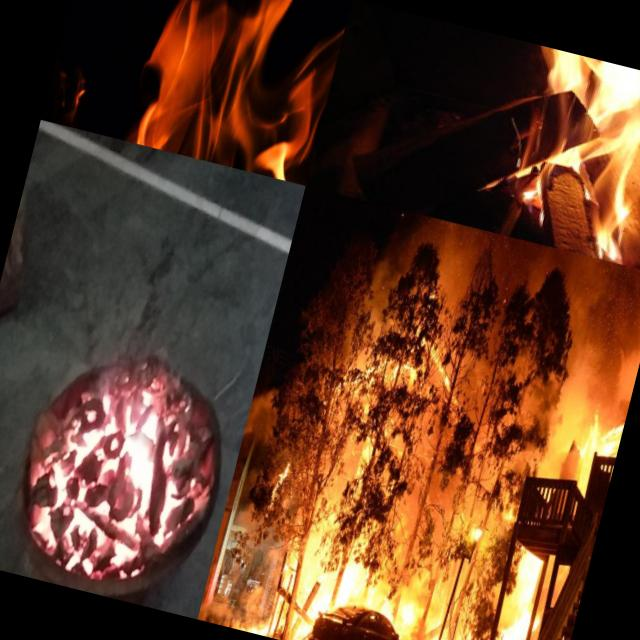fire: (15, 336, 234, 602), (40, 0, 352, 185), (464, 37, 640, 267), (468, 537, 557, 640), (374, 578, 459, 640)
smoke: (563, 260, 640, 397), (198, 584, 274, 636)
